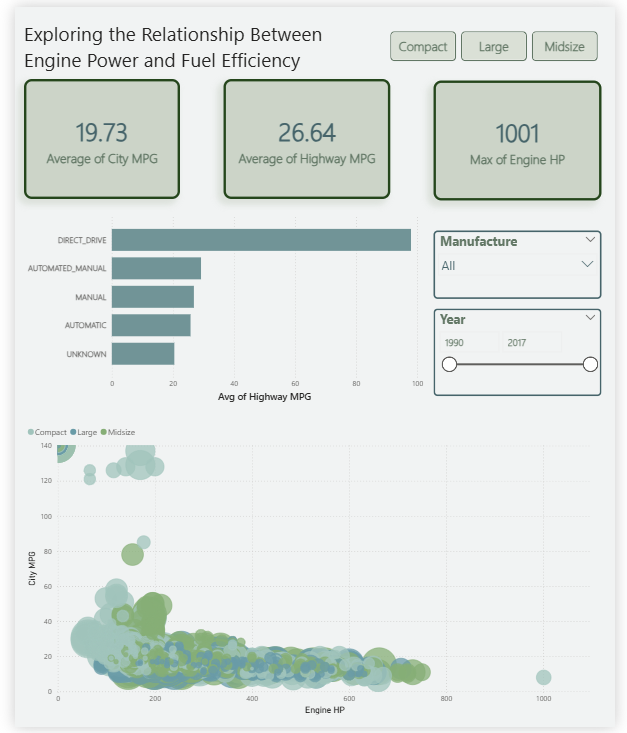

What the dashboard file says about the page in this screenshot:
{"tool":"powerbi","page":{"name":"Page 1","canvas":[1000,1200],"ordinal":0},"visuals":[{"type":"card","fields":{"Values":["Avg(data.city mpg)"]},"box":[14,121,260,200],"z":0},{"type":"card","fields":{"Values":["Avg(data.highway MPG)"]},"box":[347,121,278,200],"z":1000},{"type":"card","fields":{"Values":["Max(data.Engine HP)"]},"box":[698,122,280,200],"z":2000},{"type":"scatterChart","fields":{"X":["data.Engine HP"],"Y":["Sum(data.city mpg)"],"Size":["Avg(data.Popularity)"],"Series":["data.Vehicle Size"]},"box":[14,688,964,496],"z":3000},{"type":"slicer","fields":{"Values":["data.Make"]},"box":[698.6,371.4,280,114.3],"z":4000},{"type":"slicer","fields":{"Values":["data.Year_Date.Variation.Date Hierarchy.Year"]},"box":[698,502,280,146],"z":5000},{"type":"slicer","fields":{"Values":["data.Market Category.1"]},"box":[1113.1,282.7,166.4,77.5],"z":6000},{"type":"clusteredBarChart","fields":{"Category":["data.Transmission Type"],"Y":["Avg(data.highway MPG)"]},"box":[14,338,670,326],"z":7000},{"type":"advancedSlicerVisual","fields":{"Values":["data.Vehicle Size"]},"box":[620,36,358,60],"z":8000},{"type":"textbox","box":[14.3,21.4,581.4,90],"z":8001}]}

Visuals, with their boxes in screenshot pixels (x1, y1, x2, y2), scaled from the page's 1000x1200 canvas onto the 627x733 screenshot:
card - Avg(data.city mpg): (9,74,172,196)
card - Avg(data.highway MPG): (218,74,392,196)
card - Max(data.Engine HP): (438,75,613,197)
scatterChart - data.Engine HP x Sum(data.city mpg): (9,420,613,723)
slicer - data.Make: (438,227,614,297)
slicer - data.Year_Date.Variation.Date Hierarchy.Year: (438,307,613,396)
clusteredBarChart - data.Transmission Type x Avg(data.highway MPG): (9,206,429,406)
advancedSlicerVisual - data.Vehicle Size: (389,22,613,59)
textbox: (9,13,374,68)
